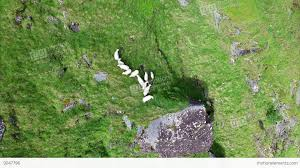sheep: (137, 73, 145, 88), (143, 83, 151, 97), (116, 63, 129, 70), (142, 95, 153, 103), (130, 70, 140, 78), (121, 69, 132, 76), (114, 48, 119, 61), (144, 71, 148, 81), (150, 71, 154, 80)
